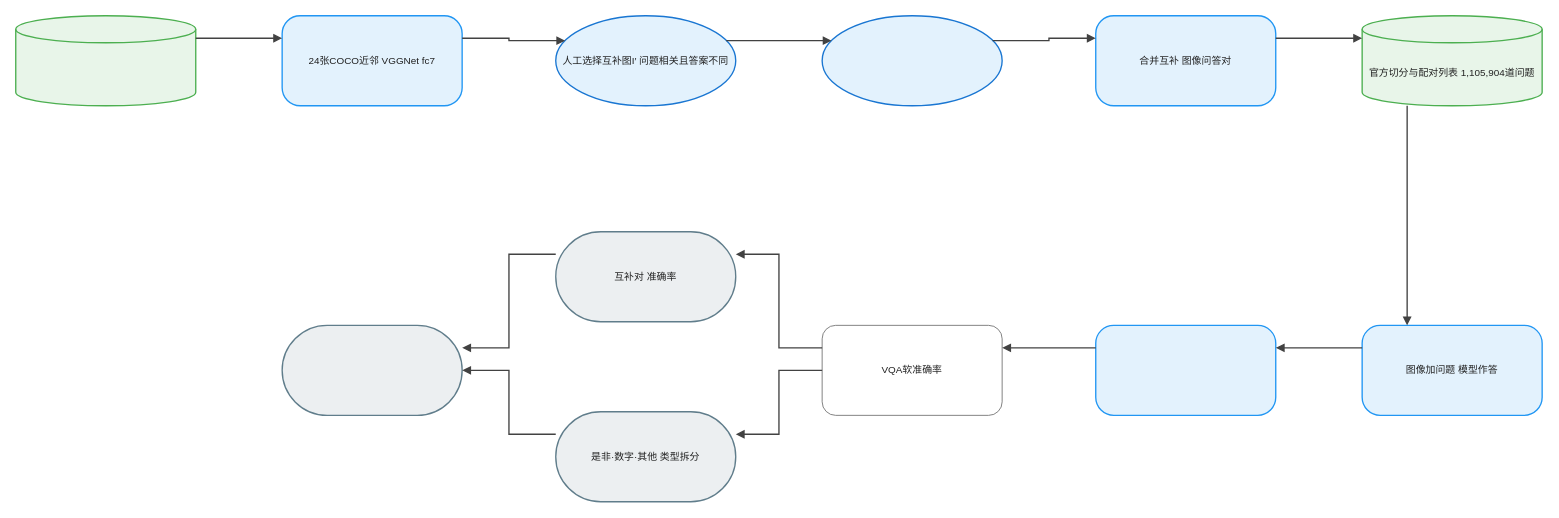
The diagram is 1559 pixels wide and 518 high, and some of its shapes have lost their labels. Each missing label, with the centre of its shape:
"VQA v2评测结果" goes at (371,370).
"为互补问答对 收集10个人类答案" goes at (911,60).
"匹配10个 人类答案" goes at (1185,370).
"原始VQA 图像问题答案" goes at (105,60).
